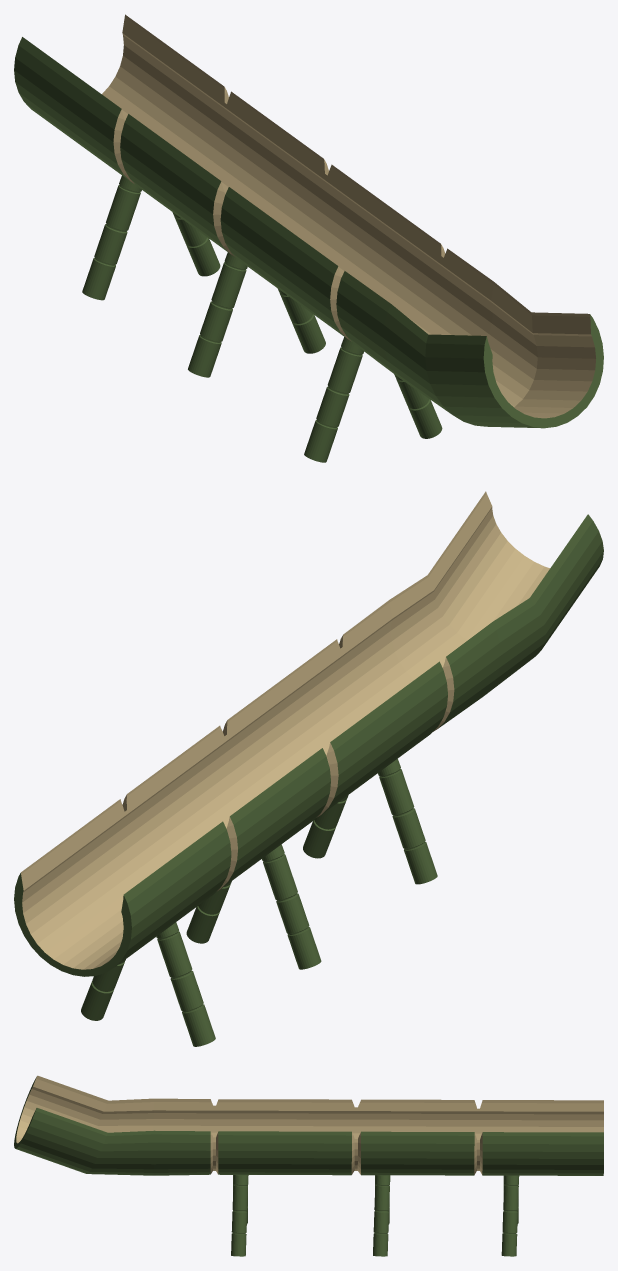
The model's file is récolte sève 4.fbx.
The picture shows the model from 3 angles, top to bottom: view 1: azimuth 30°, elevation 25°; view 2: azimuth 150°, elevation 25°; view 3: azimuth 270°, elevation 25°; orthographic projection. The views are drawn at different scales.
Visible parts, largest first — view 1: Cylindre.013, Cylindre.015, Cylindre.016, Cylindre.019, Cylindre.017, Cylindre.014, Cylindre.018; view 2: Cylindre.013, Cylindre.015, Cylindre.016, Cylindre.019, Cylindre.018, Cylindre.014, Cylindre.017; view 3: Cylindre.013, Cylindre.014, Cylindre.018, Cylindre.017.
Part boxes in pixels (left/top/right/bottom): Cylindre.013: left=14, top=14, right=603, bottom=428; Cylindre.015: left=304, top=337, right=363, bottom=462; Cylindre.016: left=188, top=252, right=247, bottom=377; Cylindre.019: left=82, top=175, right=141, bottom=300; Cylindre.017: left=277, top=288, right=325, bottom=353; Cylindre.014: left=394, top=374, right=442, bottom=438; Cylindre.018: left=172, top=212, right=220, bottom=276; Cylindre.013: left=14, top=491, right=603, bottom=976; Cylindre.015: left=378, top=758, right=437, bottom=884; Cylindre.016: left=262, top=844, right=321, bottom=969; Cylindre.019: left=156, top=922, right=215, bottom=1046; Cylindre.018: left=81, top=959, right=125, bottom=1020; Cylindre.014: left=303, top=795, right=348, bottom=858; Cylindre.017: left=186, top=881, right=231, bottom=943; Cylindre.013: left=14, top=1075, right=603, bottom=1175; Cylindre.014: left=231, top=1175, right=248, bottom=1256; Cylindre.018: left=501, top=1175, right=519, bottom=1256; Cylindre.017: left=373, top=1175, right=390, bottom=1256.
Bounding box in the file's own units: 1261 × 2234 × 7943.
